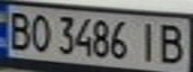3: (54, 12, 75, 55)
4: (72, 15, 93, 57)
6: (109, 17, 133, 61)
8: (90, 16, 112, 60)
B: (154, 20, 190, 65), (3, 8, 33, 52)
I: (133, 19, 163, 64)
O: (27, 11, 54, 53)
